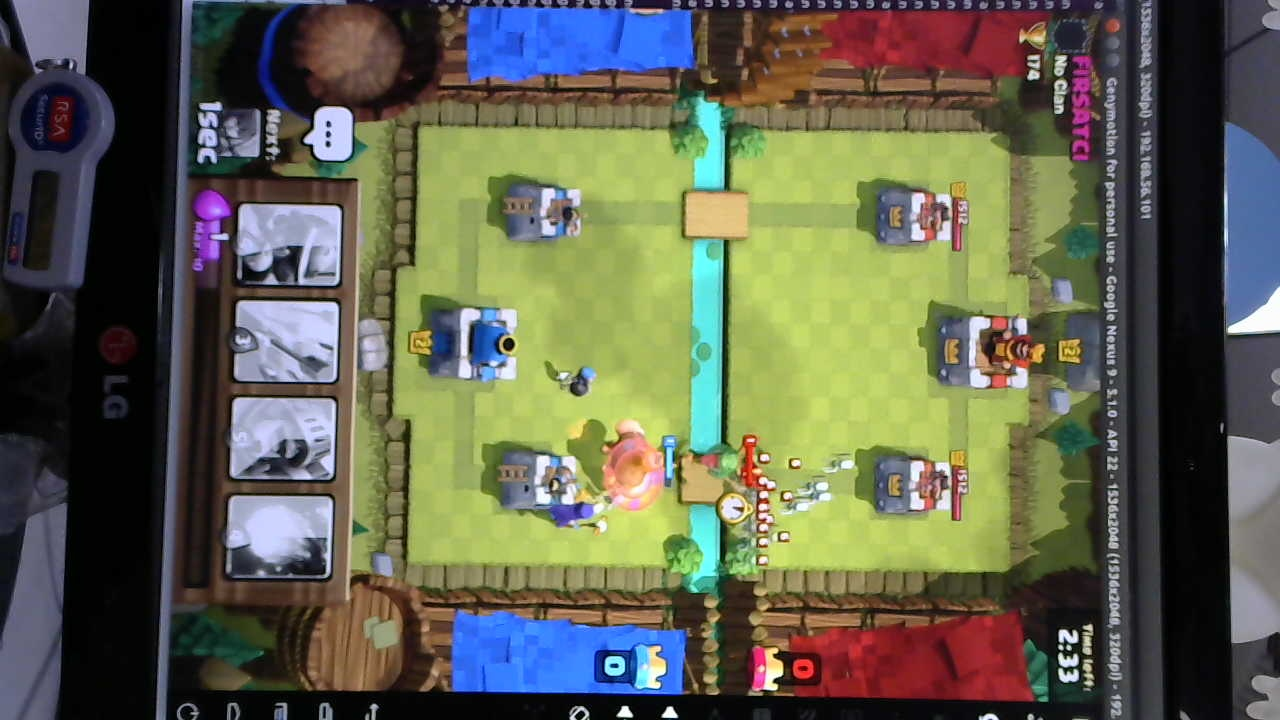arena: (502, 447, 585, 510), (510, 177, 583, 241)
bomb: (566, 359, 597, 399)
dragon: (699, 432, 742, 483)
earena: (873, 451, 957, 520), (875, 186, 955, 249)
eking: (938, 311, 1038, 395)
giant: (605, 416, 661, 501)
king: (428, 301, 521, 387)
skeletonarmy: (744, 427, 831, 569)
witch: (547, 499, 614, 527)
